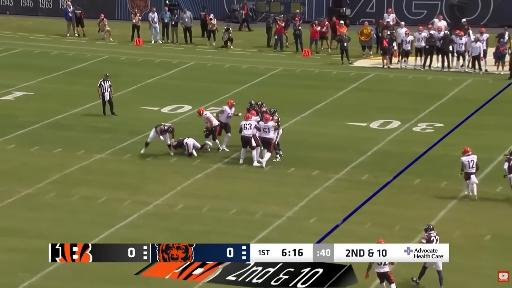Helmet: (424, 224, 434, 233), (462, 147, 471, 155), (197, 108, 205, 116), (248, 100, 255, 108), (263, 114, 270, 122), (257, 102, 265, 109), (227, 100, 234, 107), (269, 109, 277, 115), (244, 114, 252, 120), (250, 111, 256, 116), (168, 126, 173, 132), (387, 8, 392, 13), (418, 26, 423, 31), (480, 28, 485, 33), (405, 30, 410, 35), (377, 240, 385, 243), (172, 142, 176, 148), (428, 24, 433, 28), (438, 26, 442, 31)
Jersey: (258, 121, 275, 139), (461, 155, 477, 173), (219, 106, 234, 122), (241, 121, 257, 136), (203, 112, 218, 127), (155, 124, 174, 135), (422, 231, 439, 243), (414, 32, 427, 47), (402, 36, 414, 50), (478, 34, 489, 49), (396, 27, 407, 42), (455, 38, 467, 51), (173, 138, 186, 150), (434, 32, 444, 46), (504, 156, 511, 175), (375, 263, 389, 272), (384, 14, 395, 24), (273, 114, 280, 129), (247, 107, 257, 114), (252, 116, 260, 124)
Player: (217, 100, 241, 151), (256, 114, 277, 167), (240, 114, 260, 166), (197, 108, 221, 151), (141, 124, 174, 154), (461, 147, 479, 198), (412, 263, 443, 287), (365, 263, 396, 287), (172, 138, 211, 156), (269, 109, 282, 161), (414, 26, 427, 68), (400, 30, 414, 68), (477, 28, 489, 71), (455, 31, 467, 71), (434, 27, 444, 67), (465, 28, 474, 67), (451, 30, 459, 67), (504, 151, 511, 188), (253, 129, 261, 158), (383, 8, 396, 25), (246, 100, 257, 113), (256, 102, 265, 113), (426, 24, 434, 34)
